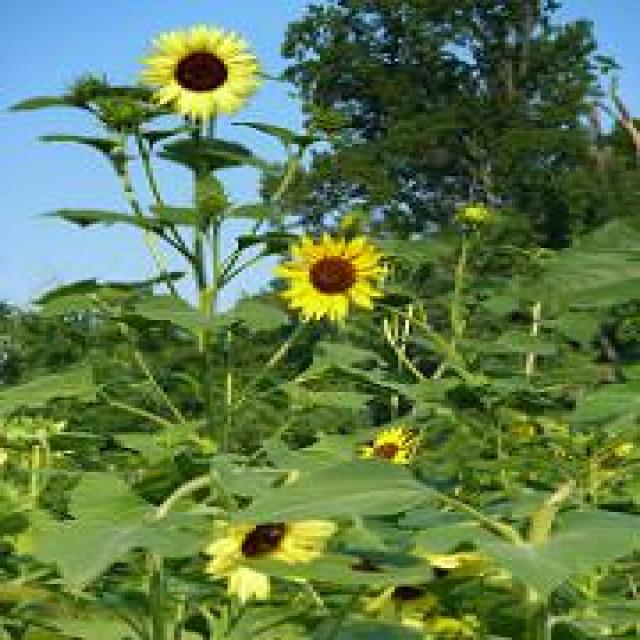sunflower: (141, 25, 258, 120), (203, 519, 331, 603), (280, 229, 386, 322), (368, 584, 436, 624), (359, 428, 414, 462)
